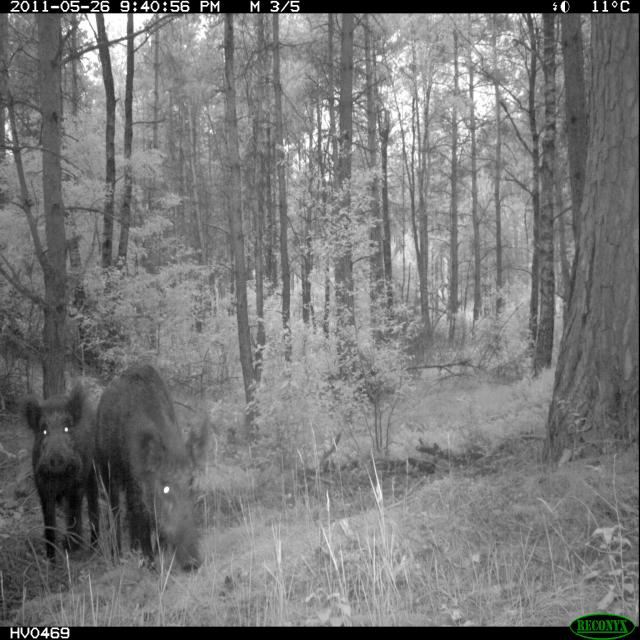boar: (94, 350, 206, 580), (19, 386, 115, 591)
